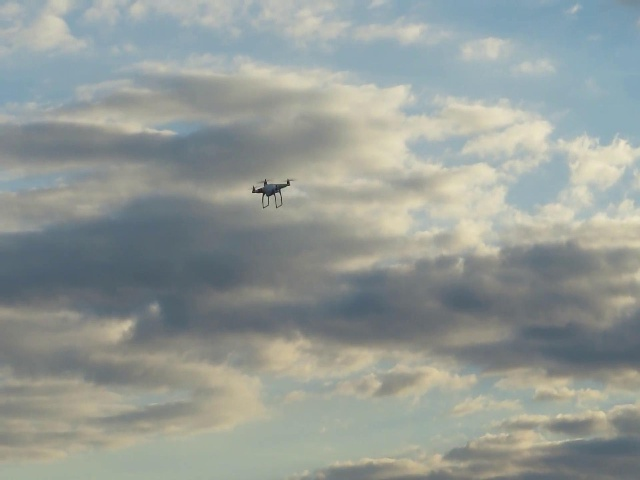drone: (246, 176, 297, 210)
